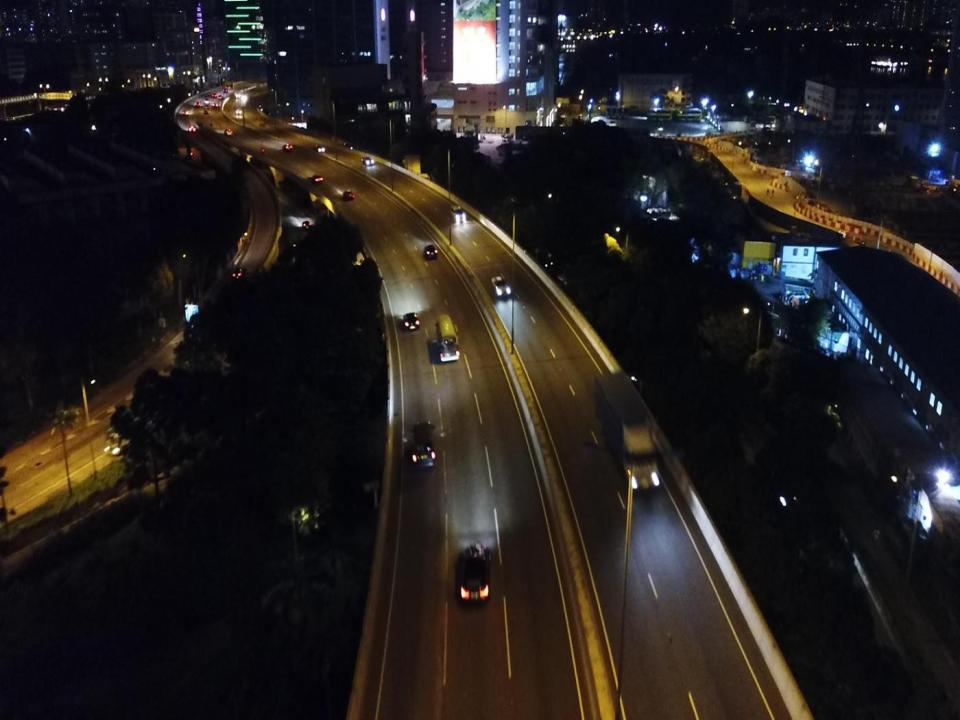bus: (104, 410, 160, 454), (676, 110, 702, 122), (647, 108, 673, 120), (623, 106, 629, 119), (606, 106, 612, 117), (618, 107, 623, 118), (612, 106, 616, 118)
car: (459, 545, 490, 604), (490, 274, 511, 297), (403, 314, 420, 331), (449, 205, 466, 221), (787, 290, 809, 300), (232, 266, 245, 280), (425, 246, 438, 259), (311, 174, 323, 184), (302, 219, 311, 231), (343, 190, 354, 198), (282, 143, 293, 151), (314, 145, 324, 152), (188, 125, 195, 132), (235, 93, 241, 99), (241, 95, 247, 101), (235, 110, 242, 115), (182, 110, 188, 115), (213, 102, 218, 108), (195, 101, 200, 106), (204, 109, 208, 114), (204, 105, 209, 109), (212, 94, 217, 98), (223, 89, 228, 92)
truck: (592, 373, 661, 493)
van: (436, 313, 460, 363), (413, 421, 436, 470), (224, 129, 232, 136), (204, 98, 209, 104), (218, 95, 222, 99)
